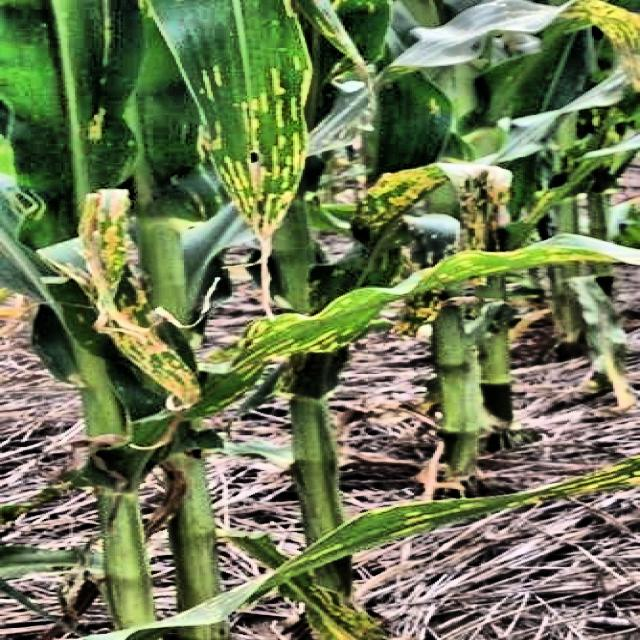blight: (206, 226, 638, 377)
